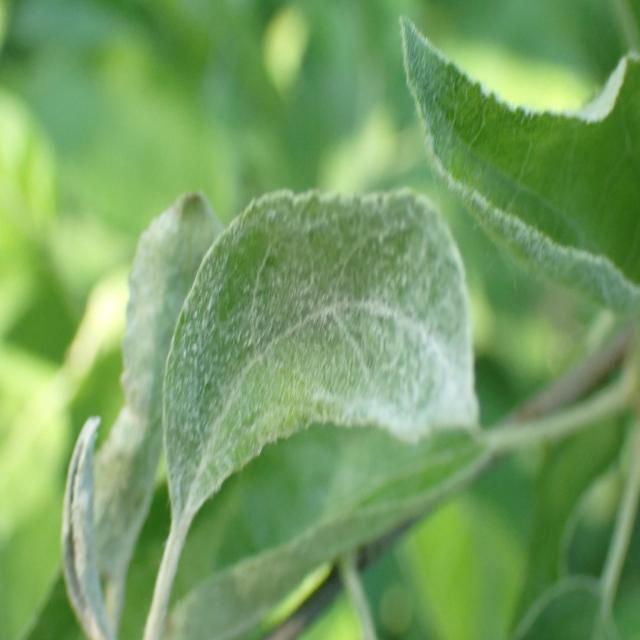Powdery_mildew: (160, 184, 498, 527), (394, 9, 640, 323), (95, 182, 221, 634), (54, 408, 108, 638)
